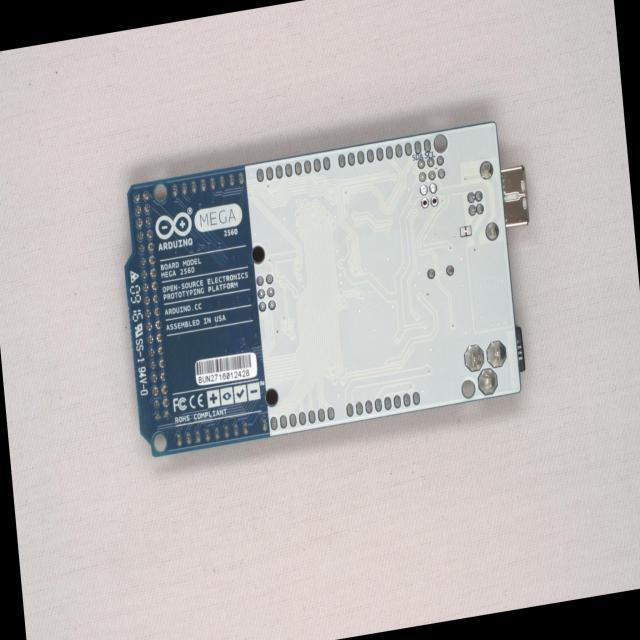Connector: (499, 165, 529, 228), (417, 181, 440, 197), (418, 194, 440, 210)
Pads: (458, 225, 472, 238)
Pins: (132, 187, 172, 424), (462, 338, 511, 400), (337, 138, 431, 167), (174, 419, 250, 448), (344, 390, 422, 418), (255, 155, 332, 183), (170, 170, 246, 198), (259, 406, 336, 432), (479, 157, 500, 242), (255, 272, 278, 313), (416, 156, 446, 183), (464, 189, 486, 220), (425, 264, 455, 280)
